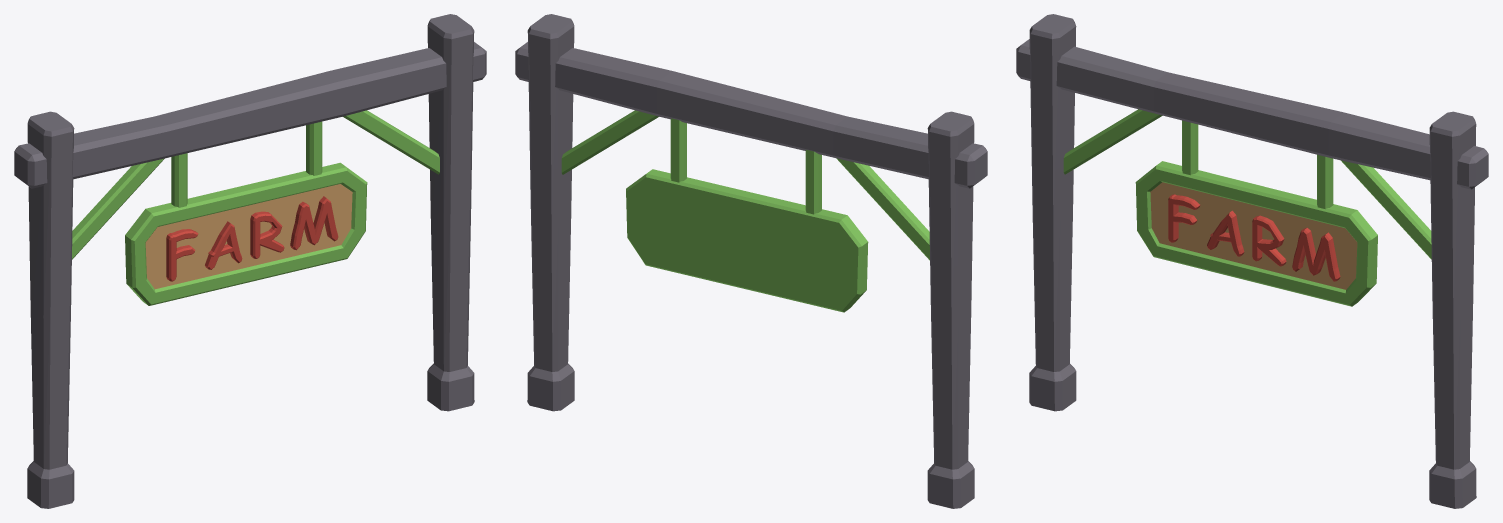
File: farmsign_a.gltf
3 renders of one model, left to right at view 1: azimuth 30°, elevation 25°; view 2: azimuth 150°, elevation 25°; view 3: azimuth 330°, elevation 25°, orthographic.
Parts seen in each view (by area): view 1: farmsign_a001; view 2: farmsign_a001; view 3: farmsign_a001.
Part boxes in pixels (x1,y1,x2,y2): farmsign_a001: (14,14,486,508); farmsign_a001: (515,14,987,508); farmsign_a001: (1016,14,1488,508).
Size of the model in its own units: 3 by 2.36 by 0.26.
1 material, 1 textured.
